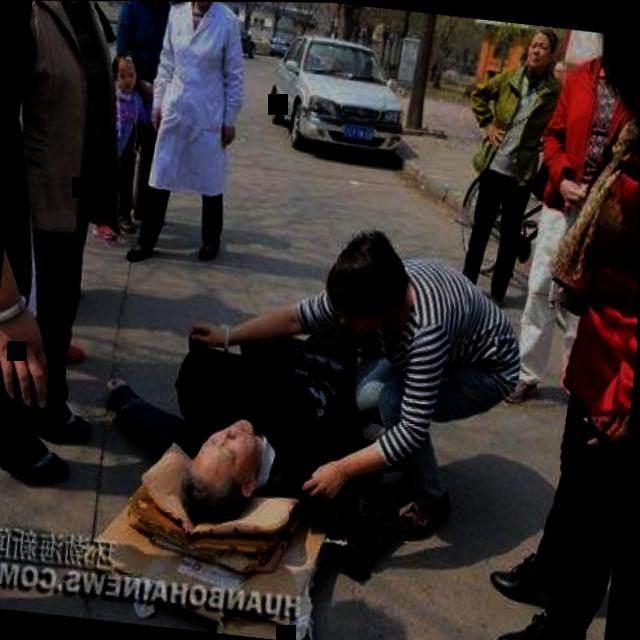Fall-Detected: (81, 261, 405, 566)
